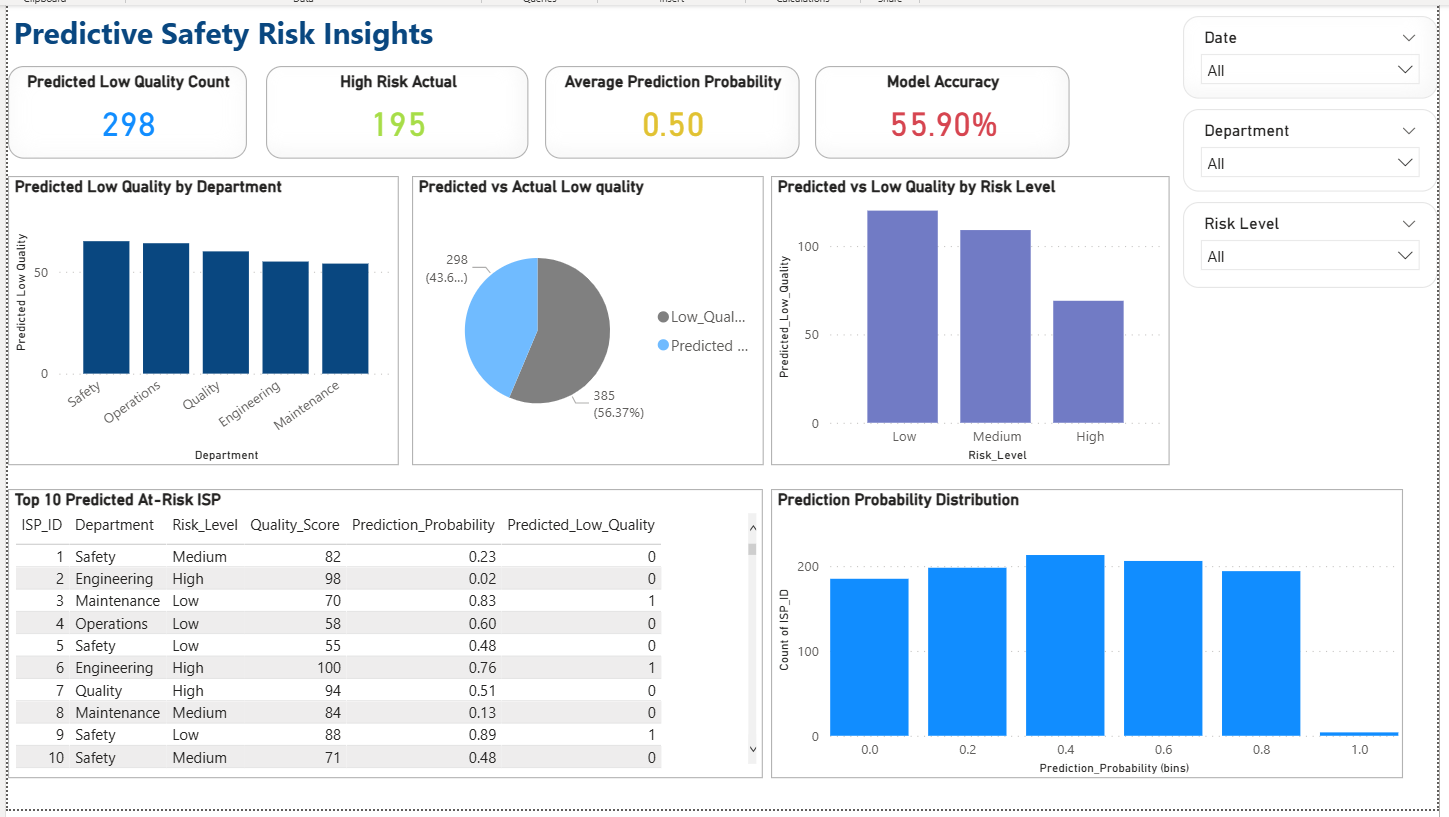

The dashboard page shown, as its layout file describes it:
{"tool":"powerbi","page":{"name":"Prediction Insights","canvas":[1280,720],"ordinal":3},"visuals":[{"type":"slicer","fields":{"Values":["cleaned_isp_safety_data.Date.Variation.Date Hierarchy.Month"]},"box":[1052.3,10.3,227.6,73.9],"z":0},{"type":"slicer","fields":{"Values":["cleaned_isp_safety_data.Department"]},"box":[1052.3,93,227.6,73.9],"z":1},{"type":"slicer","fields":{"Values":["cleaned_isp_safety_data (2).Risk_Level"]},"box":[1052.3,176.6,227.6,76.8],"z":2},{"type":"textbox","box":[-0.1,0.6,535,58.4],"z":3},{"type":"card","title":"Predicted Low Quality Count","fields":{"Values":["cleaned_isp_safety_data (2).Predicted Low Quality Count"]},"box":[0,54.8,214,82.7],"z":4},{"type":"card","title":"High Risk Actual","fields":{"Values":["cleaned_isp_safety_data (2).High Risk Actual"]},"box":[231.5,54.8,235.4,82.7],"z":5},{"type":"card","title":"Average Prediction Probability","fields":{"Values":["cleaned_isp_safety_data (2).Average Prediction Probability"]},"box":[480.5,54.8,227.6,82.7],"z":6},{"type":"card","title":"Model Accuracy","fields":{"Values":["cleaned_isp_safety_data (2).Model Accuracy"]},"box":[722.7,54.8,227.6,82.7],"z":7},{"type":"clusteredColumnChart","fields":{"Category":["cleaned_isp_safety_data (2).Department"],"Y":["Sum(cleaned_isp_safety_data (2).Predicted_Low_Quality)"]},"box":[0,153.4,349.6,259],"z":8},{"type":"pieChart","title":"Predicted vs Actual Low quality","fields":{"Y":["Sum(cleaned_isp_safety_data (2).Low_Quality)","Sum(cleaned_isp_safety_data (2).Predicted_Low_Quality)"]},"box":[361.6,153.4,314.8,259],"z":9},{"type":"clusteredColumnChart","title":"Predicted vs Low Quality by Risk Level","fields":{"Y":["Sum(cleaned_isp_safety_data (2).Predicted_Low_Quality)"],"Category":["cleaned_isp_safety_data (2).Risk_Level"]},"box":[683.3,153.4,356.6,259],"z":10},{"type":"tableEx","title":"Top 10 Predicted At-Risk ISP","fields":{"Values":["cleaned_isp_safety_data (2).ISP_ID","cleaned_isp_safety_data (2).Department","cleaned_isp_safety_data (2).Risk_Level","Sum(cleaned_isp_safety_data (2).Quality_Score)","Sum(cleaned_isp_safety_data (2).Prediction_Probability)","Sum(cleaned_isp_safety_data (2).Predicted_Low_Quality)"]},"box":[0,433.3,676.4,259],"z":11},{"type":"clusteredColumnChart","title":"Prediction Probability Distribution","fields":{"Y":["CountNonNull(cleaned_isp_safety_data (2).ISP_ID)"],"Category":["cleaned_isp_safety_data (2).Prediction_Probability (bins)"]},"box":[683.3,433.3,565.8,259],"z":12}]}

Visuals, with their boxes on the page's 1280x720 design canvas (x1, y1, x2, y2). These are canvas units, not pixel positions in the 1449x817 screenshot, which may show the page scaled, cropped or inside an application window:
slicer - cleaned_isp_safety_data.Date.Variation.Date Hierarchy.Month: rect(1052, 10, 1280, 84)
slicer - cleaned_isp_safety_data.Department: rect(1052, 93, 1280, 167)
slicer - cleaned_isp_safety_data (2).Risk_Level: rect(1052, 177, 1280, 253)
textbox: rect(0, 1, 535, 59)
"Predicted Low Quality Count" card: rect(0, 55, 214, 138)
"High Risk Actual" card: rect(232, 55, 467, 138)
"Average Prediction Probability" card: rect(480, 55, 708, 138)
"Model Accuracy" card: rect(723, 55, 950, 138)
clusteredColumnChart - cleaned_isp_safety_data (2).Department x Sum(cleaned_isp_safety_data (2).Predicted_Low_Quality): rect(0, 153, 350, 412)
"Predicted vs Actual Low quality" pieChart: rect(362, 153, 676, 412)
"Predicted vs Low Quality by Risk Level" clusteredColumnChart: rect(683, 153, 1040, 412)
"Top 10 Predicted At-Risk ISP" tableEx: rect(0, 433, 676, 692)
"Prediction Probability Distribution" clusteredColumnChart: rect(683, 433, 1249, 692)
